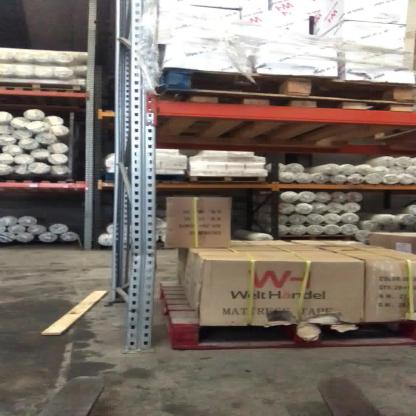vertical_damage: (127, 229, 165, 278)
